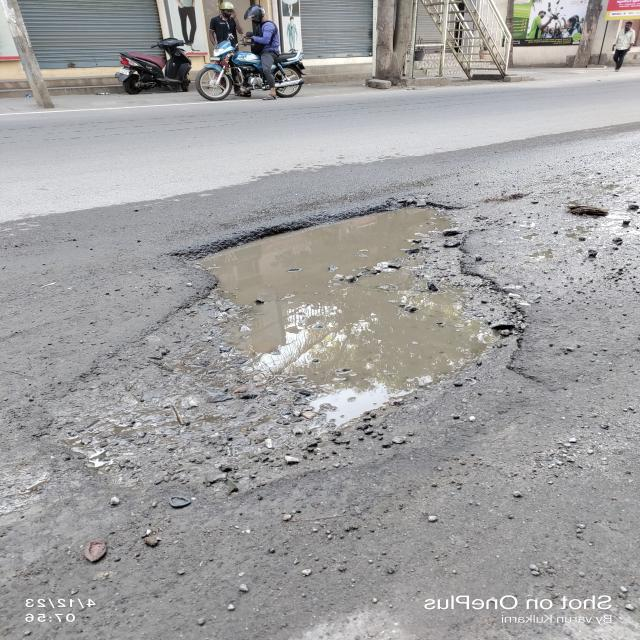Puddle pothole: (150, 208, 527, 405)
